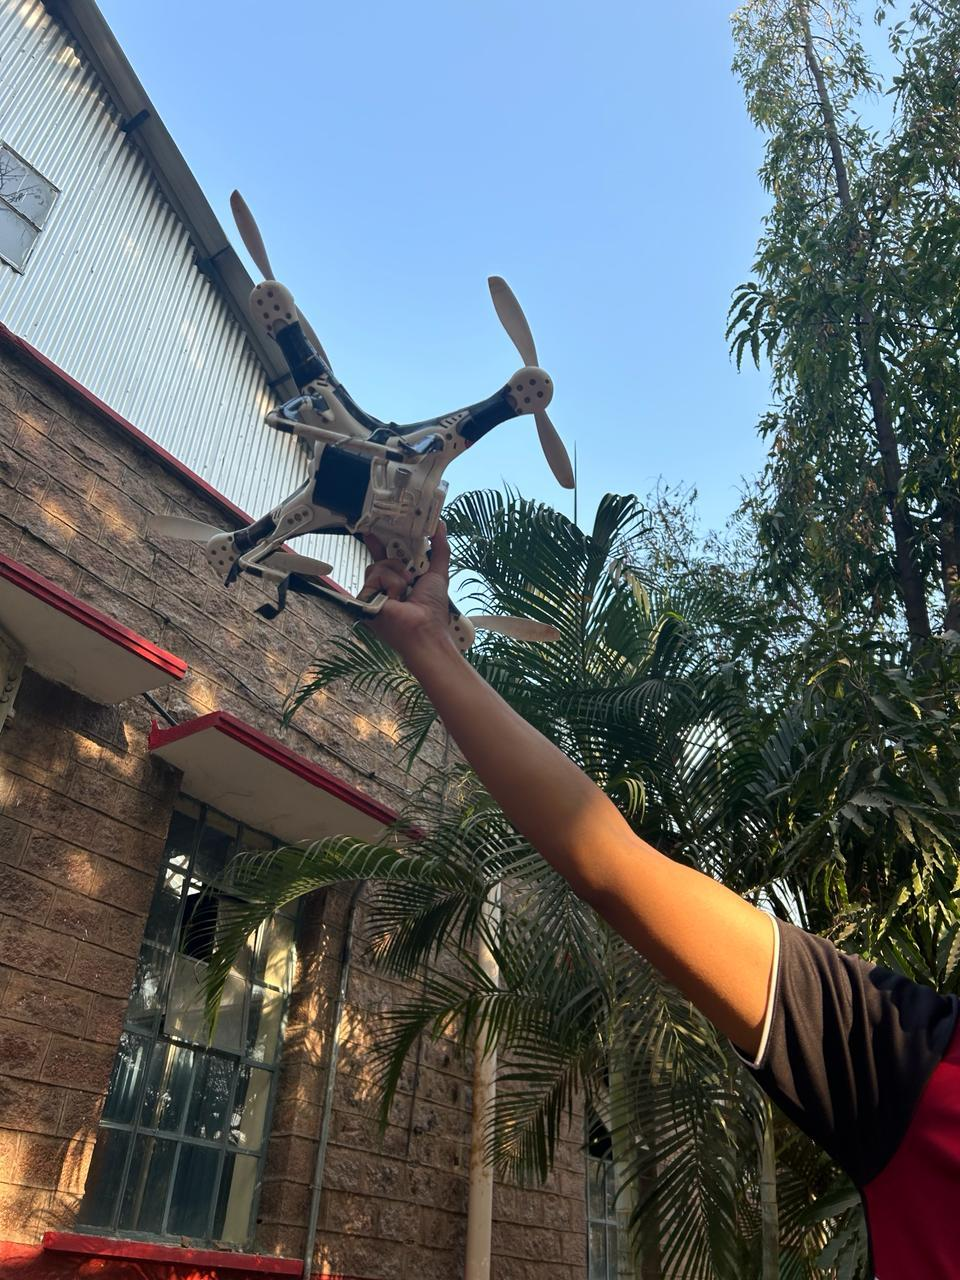drone: (150, 189, 578, 646)
